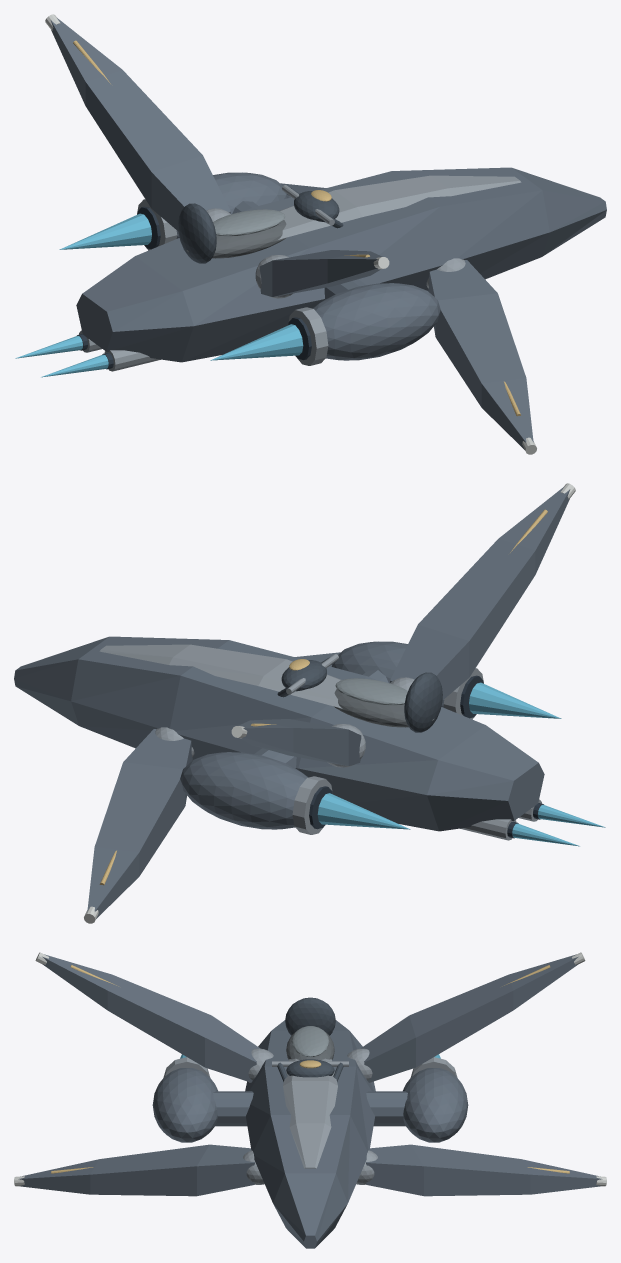
File: busan_pulse_graphite_flight.glb
3 renders of one model, top to bottom at view 1: azimuth 30°, elevation 25°; view 2: azimuth 150°, elevation 25°; view 3: azimuth 270°, elevation 25°, orthographic. The views are drawn at different scales.
Visible parts, largest first — view 1: center_hull_0, rear_wings_7, front_wings_10, side_turbine_housing_12, central_panel_1, side_thruster_blue_flame_19, seat_back_3, turbine_rim_13, saddle_pad_20, saddle_2, lower_thruster_blue_flame_18, turbine_dark_inner_14 (+3 smaller); view 2: center_hull_0, rear_wings_7, front_wings_10, side_turbine_housing_12, central_panel_1, side_thruster_blue_flame_19, seat_back_3, turbine_rim_13, saddle_pad_20, saddle_2, lower_thruster_blue_flame_18, turbine_dark_inner_14 (+3 smaller); view 3: front_wings_10, rear_wings_7, center_hull_0, side_turbine_housing_12, central_panel_1, pod_arm_11, wing_hinges_6, seat_back_3, saddle_pad_20, turbine_rim_13, instrument_cluster_21, saddle_2 (+2 smaller).
Boxes of the visible parts, x1=… form: center_hull_0: x1=76, y1=167, x2=606, y2=362; rear_wings_7: x1=50, y1=18, x2=382, y2=296; front_wings_10: x1=280, y1=183, x2=533, y2=449; side_turbine_housing_12: x1=176, y1=172, x2=440, y2=360; central_panel_1: x1=278, y1=175, x2=521, y2=239; side_thruster_blue_flame_19: x1=59, y1=213, x2=303, y2=360; seat_back_3: x1=178, y1=203, x2=216, y2=263; turbine_rim_13: x1=137, y1=199, x2=328, y2=365; saddle_pad_20: x1=213, y1=209, x2=285, y2=236; saddle_2: x1=186, y1=220, x2=286, y2=258; lower_thruster_blue_flame_18: x1=15, y1=335, x2=108, y2=377; turbine_dark_inner_14: x1=137, y1=206, x2=311, y2=360; center_hull_0: x1=14, y1=636, x2=544, y2=831; rear_wings_7: x1=238, y1=487, x2=570, y2=765; front_wings_10: x1=87, y1=652, x2=340, y2=918; side_turbine_housing_12: x1=180, y1=641, x2=444, y2=829; central_panel_1: x1=99, y1=644, x2=342, y2=708; side_thruster_blue_flame_19: x1=317, y1=682, x2=561, y2=829; seat_back_3: x1=404, y1=672, x2=442, y2=732; turbine_rim_13: x1=292, y1=668, x2=483, y2=834; saddle_pad_20: x1=335, y1=678, x2=407, y2=705; saddle_2: x1=334, y1=689, x2=434, y2=727; lower_thruster_blue_flame_18: x1=512, y1=804, x2=605, y2=846; turbine_dark_inner_14: x1=309, y1=675, x2=483, y2=829; front_wings_10: x1=18, y1=1144, x2=602, y2=1196; rear_wings_7: x1=42, y1=954, x2=578, y2=1082; center_hull_0: x1=245, y1=1020, x2=375, y2=1248; side_turbine_housing_12: x1=152, y1=1068, x2=468, y2=1142; central_panel_1: x1=283, y1=1058, x2=337, y2=1168; pod_arm_11: x1=213, y1=1091, x2=407, y2=1126; wing_hinges_6: x1=243, y1=1048, x2=377, y2=1184; seat_back_3: x1=285, y1=997, x2=335, y2=1035; saddle_pad_20: x1=291, y1=1026, x2=329, y2=1056; turbine_rim_13: x1=163, y1=1057, x2=457, y2=1077; instrument_cluster_21: x1=286, y1=1059, x2=334, y2=1077; saddle_2: x1=286, y1=1032, x2=334, y2=1059.
Size of the model in its own units: 4.93 by 1.8 by 5.37.
